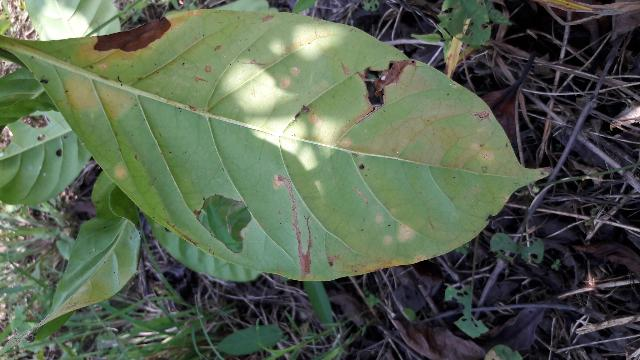rust_level_2: (6, 11, 548, 277)
